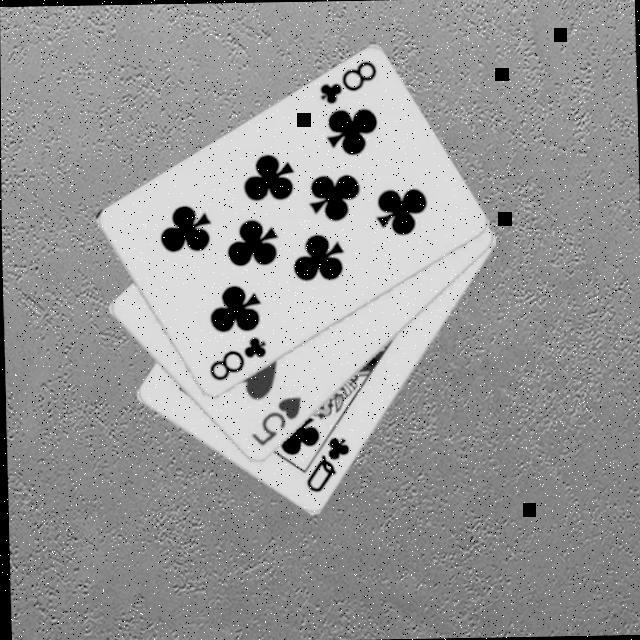5H: (243, 391, 302, 448)
8C: (201, 331, 267, 382), (312, 55, 378, 106)
QC: (299, 431, 351, 495)
